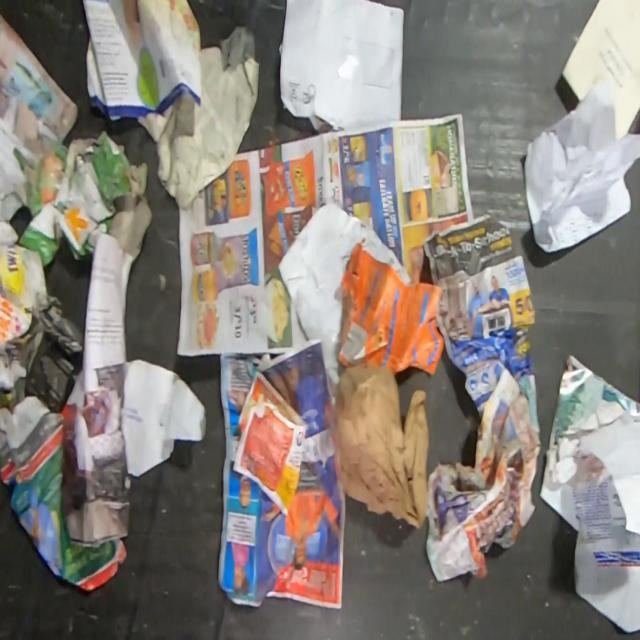metal: (74, 140, 101, 171)
